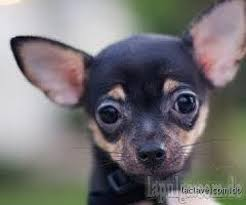chihuahua: (8, 2, 246, 184)
